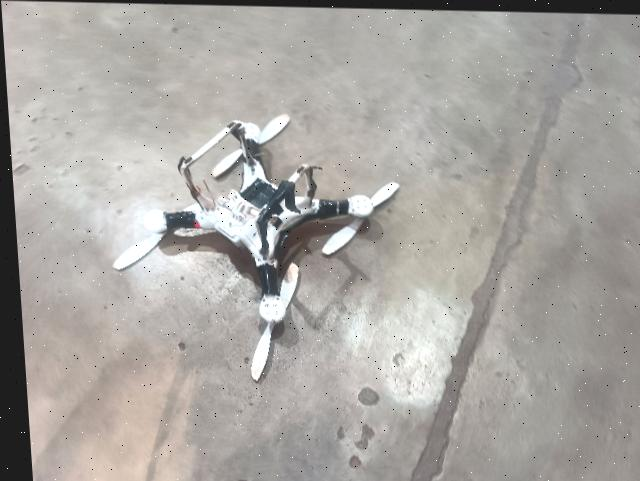drone: (82, 85, 423, 396)
